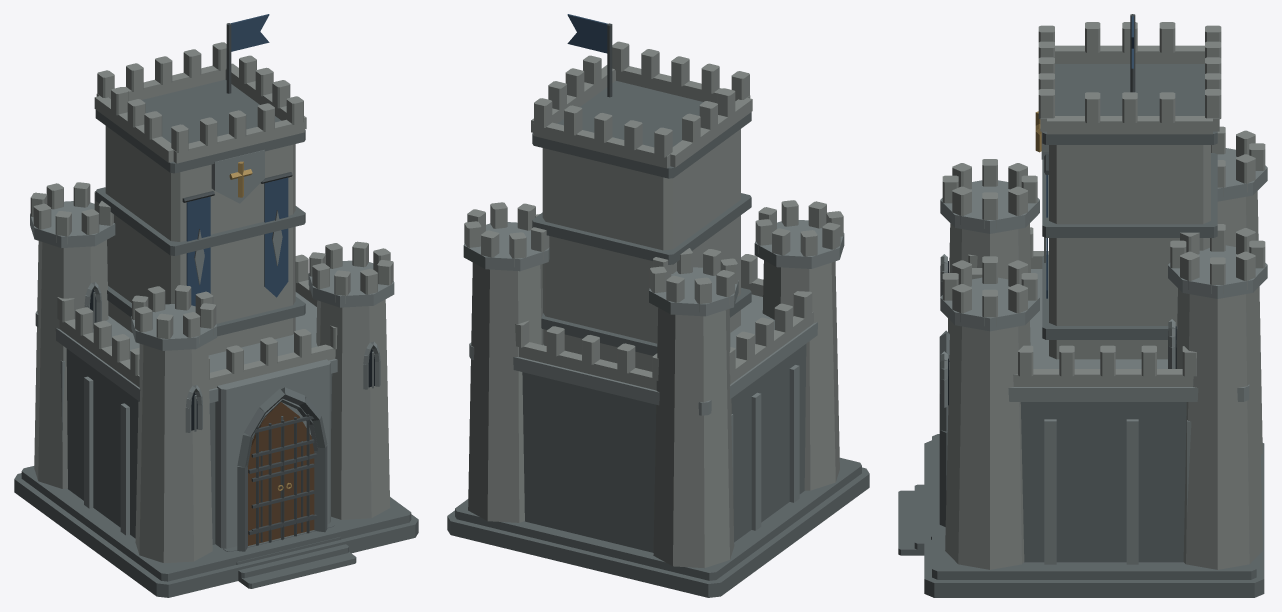
The model's file is iron.glb.
3 renders of one model, left to right at view 1: azimuth 30°, elevation 25°; view 2: azimuth 150°, elevation 25°; view 3: azimuth 270°, elevation 25°, orthographic. The views are drawn at different scales.
Parts seen in each view (by area): view 1: VIL_IRON_CHAPEL; view 2: VIL_IRON_CHAPEL; view 3: VIL_IRON_CHAPEL.
Boxes of the visible parts, <box> form: VIL_IRON_CHAPEL: <box>14,14,418,597</box>; VIL_IRON_CHAPEL: <box>447,14,869,597</box>; VIL_IRON_CHAPEL: <box>898,14,1267,597</box>.
Bounding box in the file's own units: 6.2 × 10.66 × 6.74.
